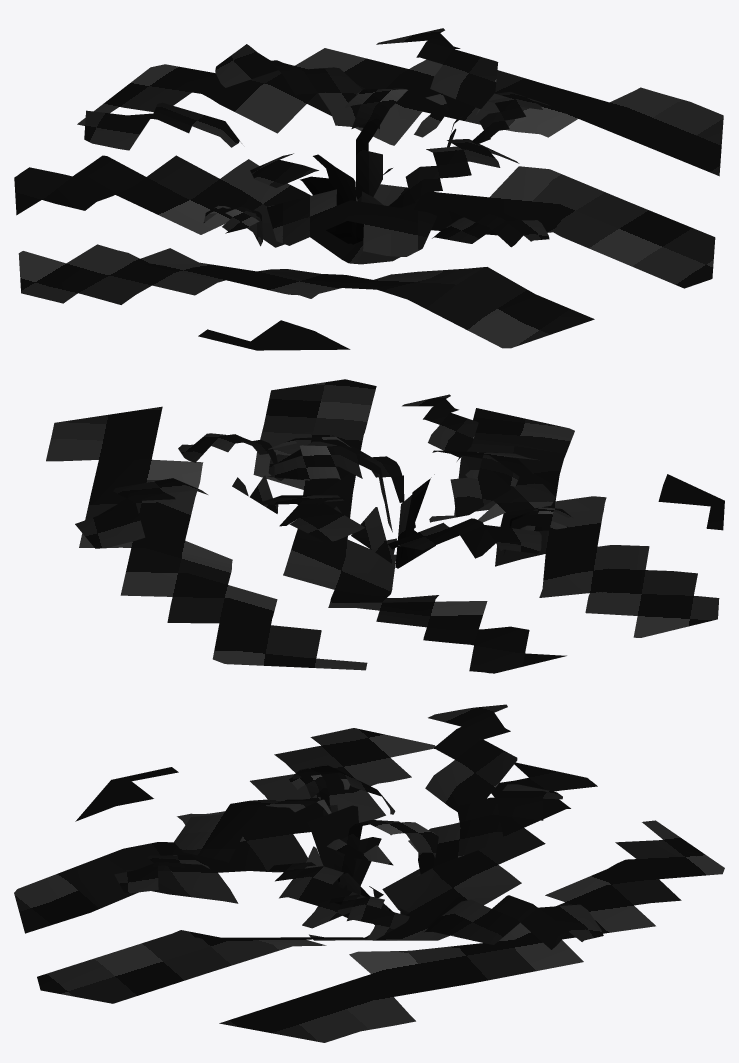
Rendered from cliffFoliage.fbx.
3 renders of one model, top to bottom at view 1: azimuth 30°, elevation 25°; view 2: azimuth 150°, elevation 25°; view 3: azimuth 270°, elevation 25°, orthographic.
Visible parts, largest first — view 1: polySurface36; view 2: polySurface36; view 3: polySurface36.
Boxes of the visible parts, <box> form: polySurface36: <box>14,28,723,350</box>; polySurface36: <box>46,379,724,673</box>; polySurface36: <box>14,704,724,1042</box>.
Size of the model in its own units: 1.65 by 0.3266 by 1.44.
